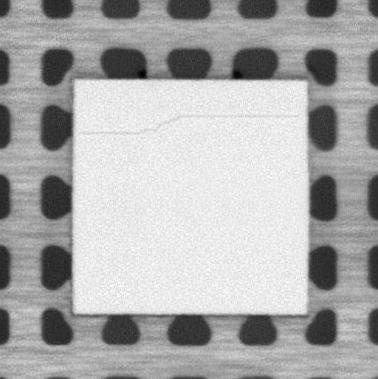DIE_CRACK: (78, 111, 299, 135)
